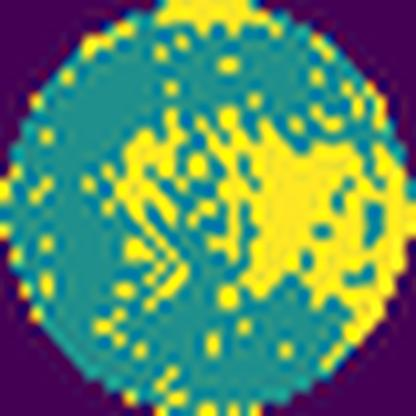Loc: (197, 105, 416, 352), (109, 109, 193, 307)
